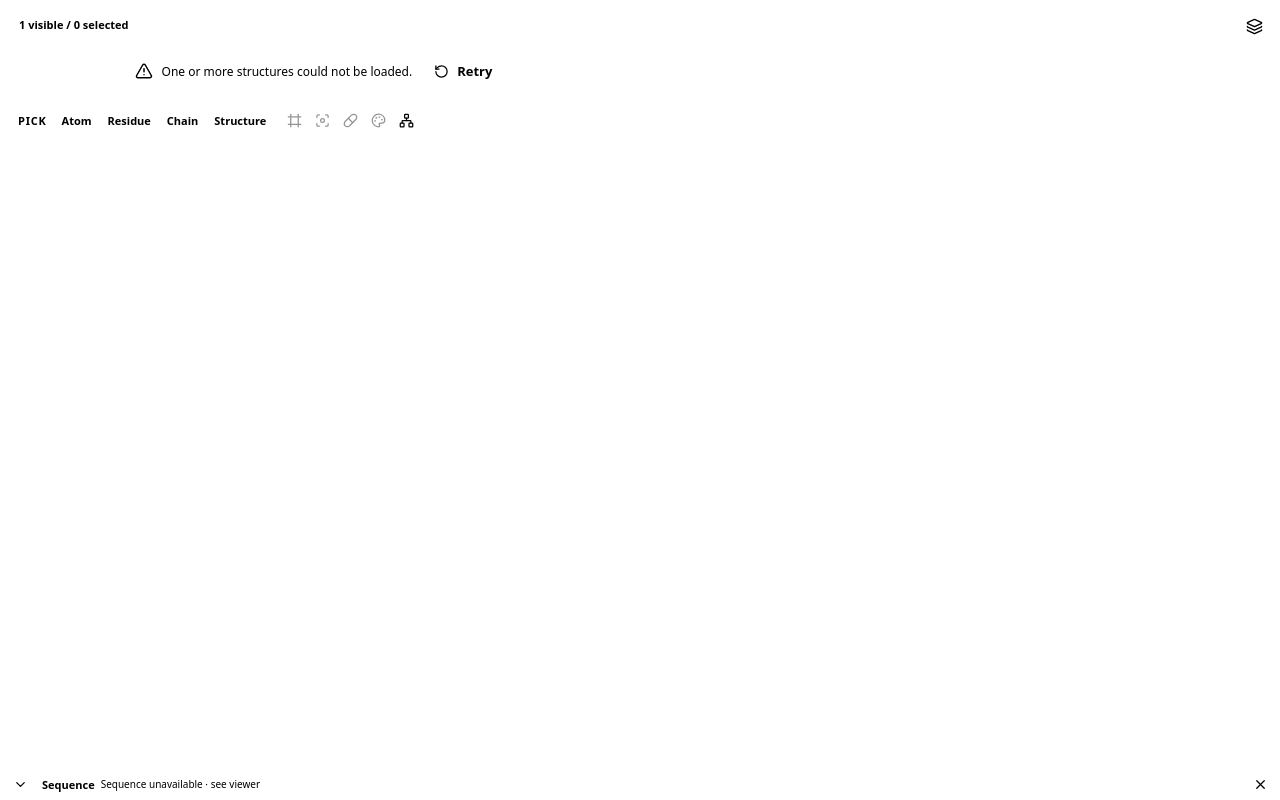
lazy structure loading › surfaces a failed projection and retries successfully
Expected: the message shows "One or more structures could not be loaded.", [162,62,412,80]
Click the button "Retry".
click(463, 71)  # box [421,54,505,88]
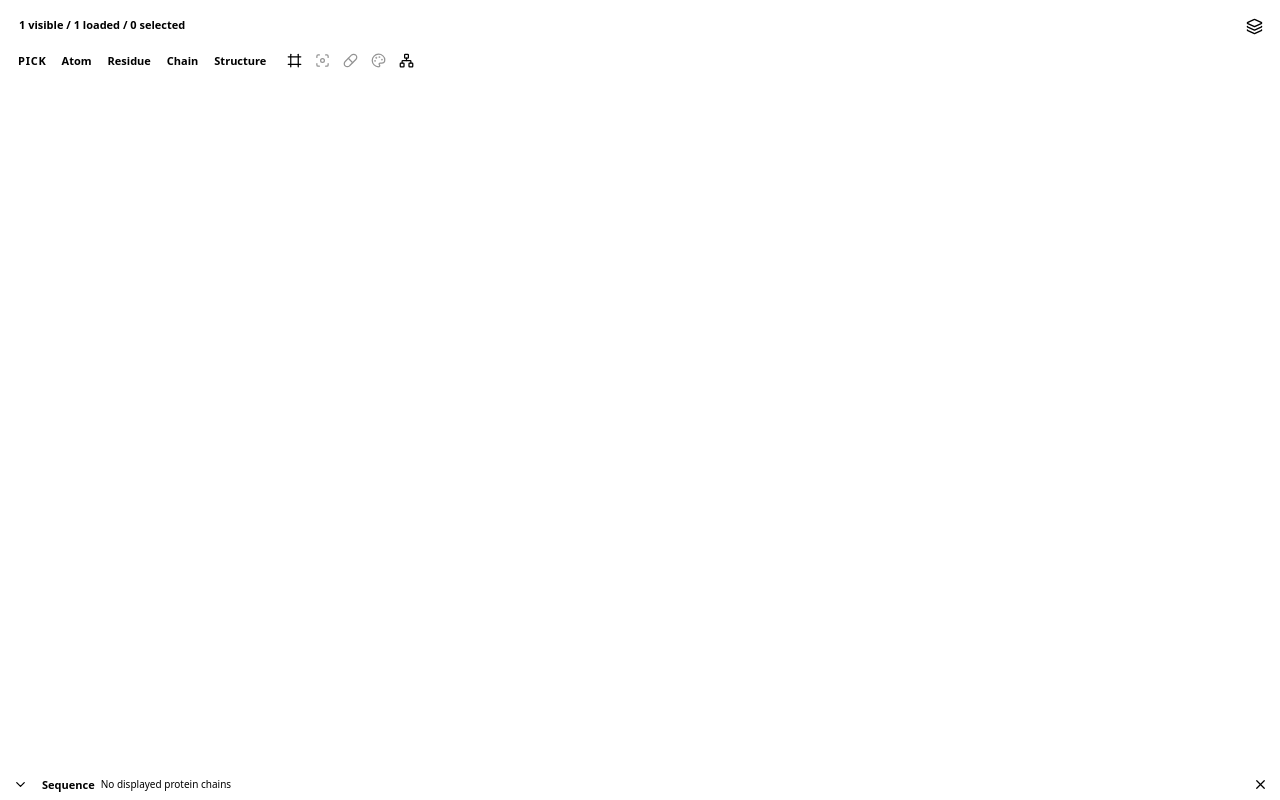
Expected: the message "One or more structures could not be loaded. Retry" is gone
